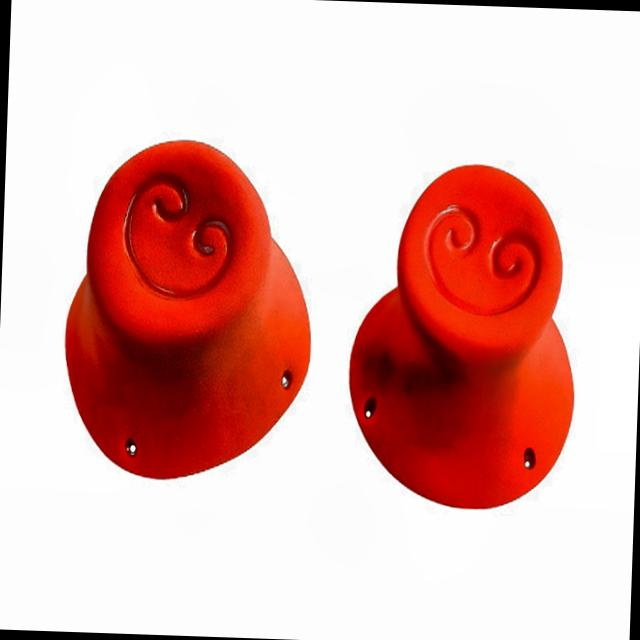Hold: (59, 134, 320, 483), (340, 158, 590, 514)
